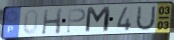0: (22, 9, 41, 36)
4: (116, 6, 134, 33)
H: (41, 7, 64, 36)
M: (84, 5, 113, 34)
P: (65, 8, 87, 34)
U: (134, 4, 157, 33)
